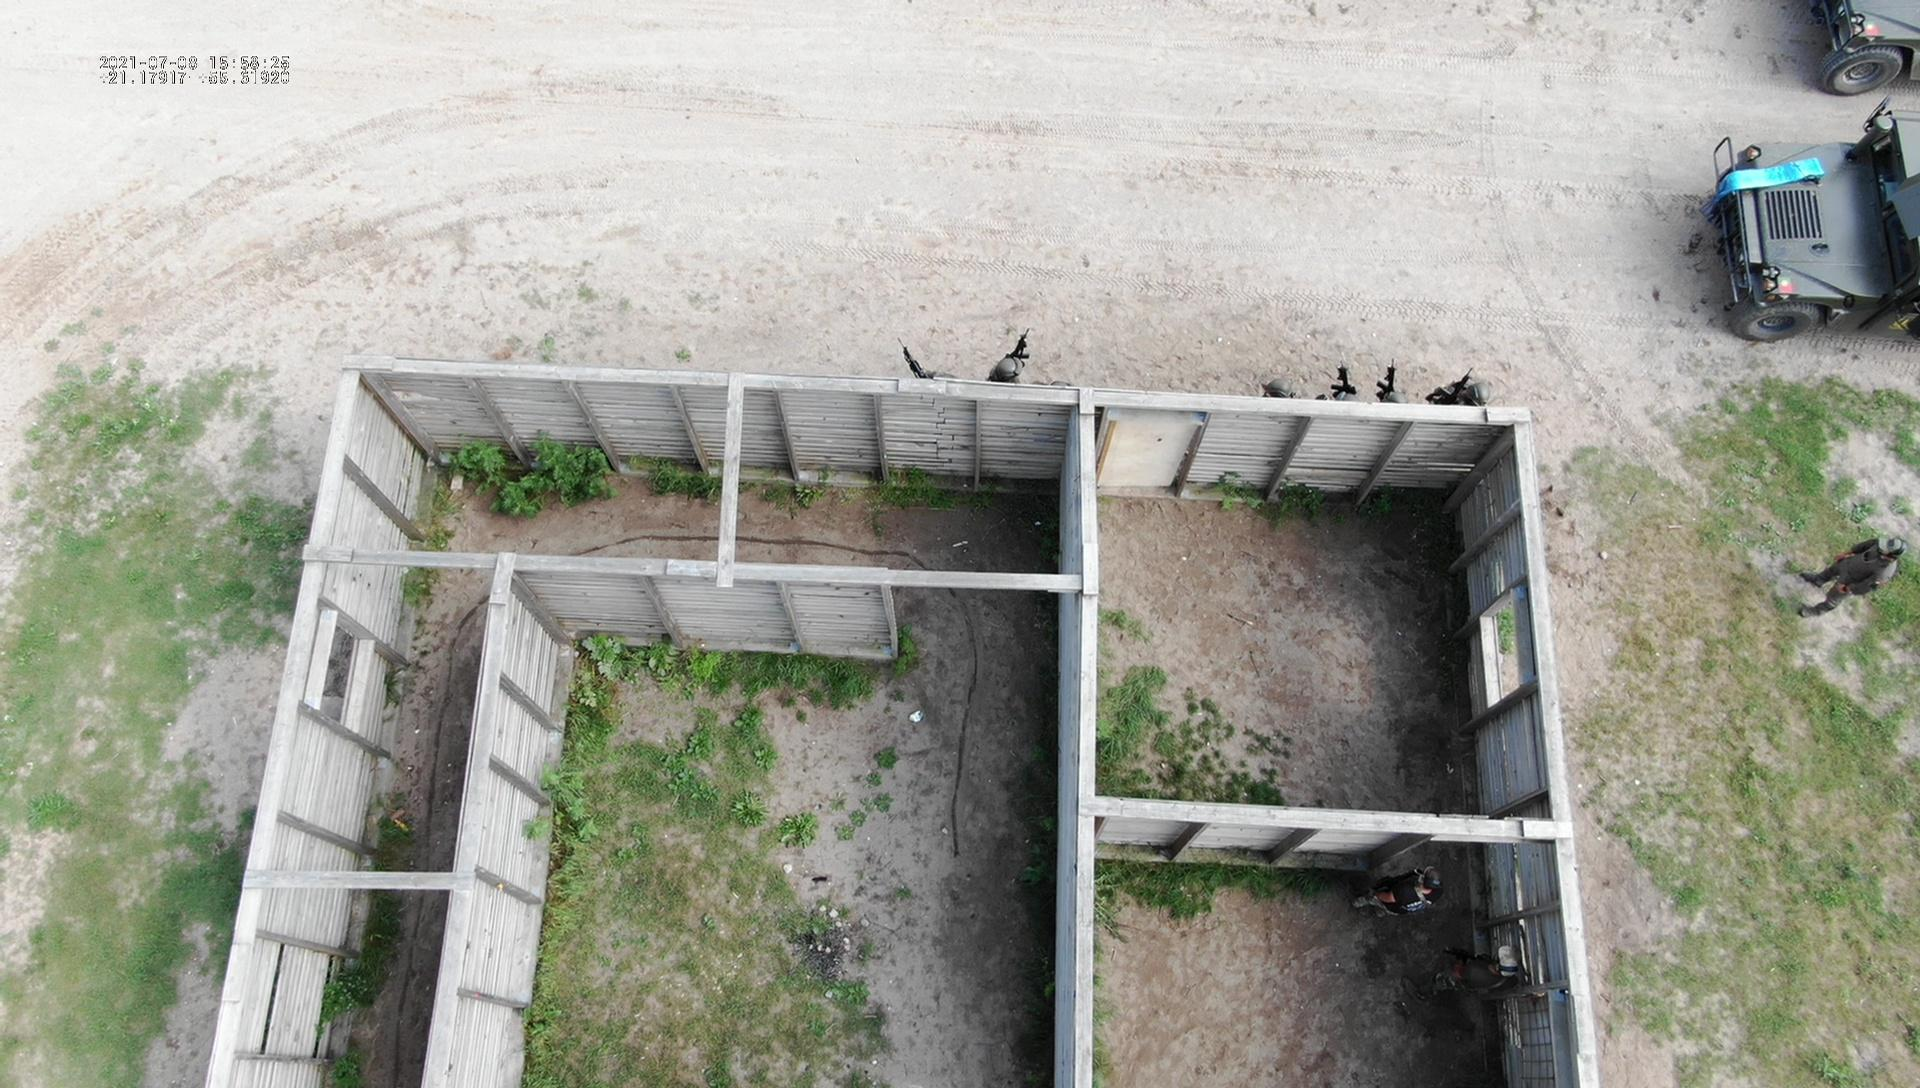Soldier: (1396, 936, 1523, 1044), (1360, 859, 1445, 963), (1807, 530, 1905, 620), (986, 332, 1062, 390), (1425, 368, 1487, 411)
